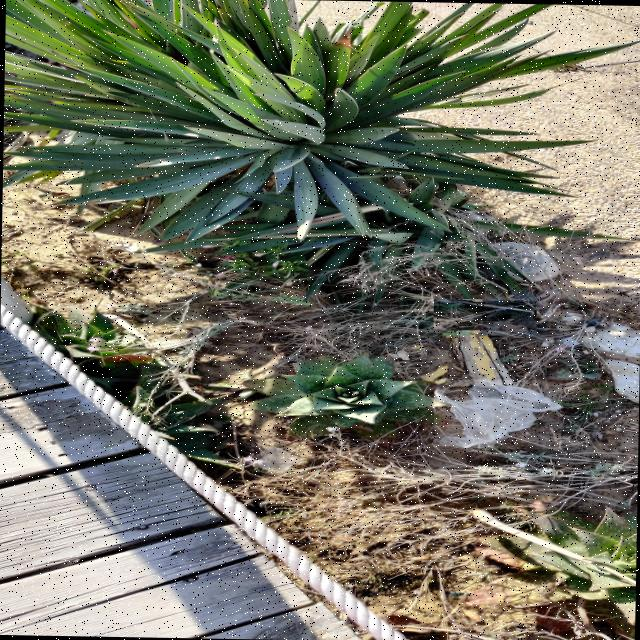Cigarette: (573, 257, 582, 264)
Plastic film: (434, 379, 562, 448), (434, 300, 535, 330), (244, 446, 303, 470), (508, 291, 560, 316)
